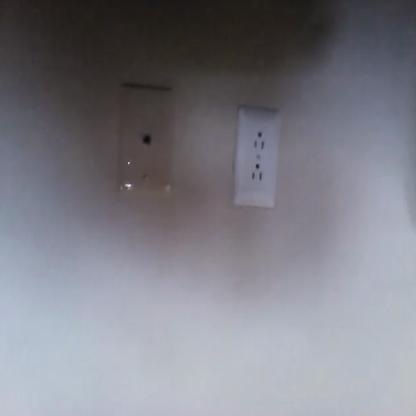OUTLET: (233, 114, 280, 206)
